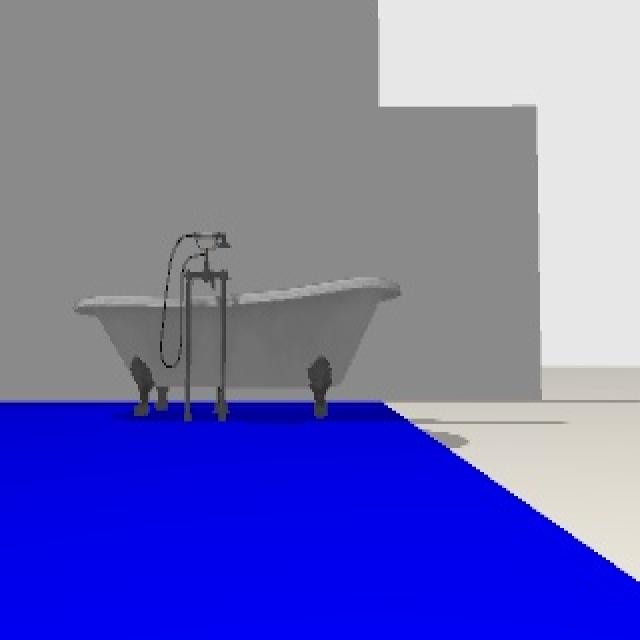bathtub: (71, 230, 404, 422)
